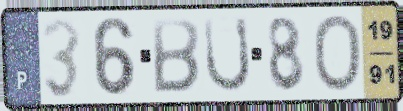3: (40, 15, 86, 101)
6: (91, 15, 139, 99)
8: (265, 14, 308, 94)
B: (150, 16, 202, 95)
O: (311, 12, 363, 94)
U: (202, 15, 253, 96)
